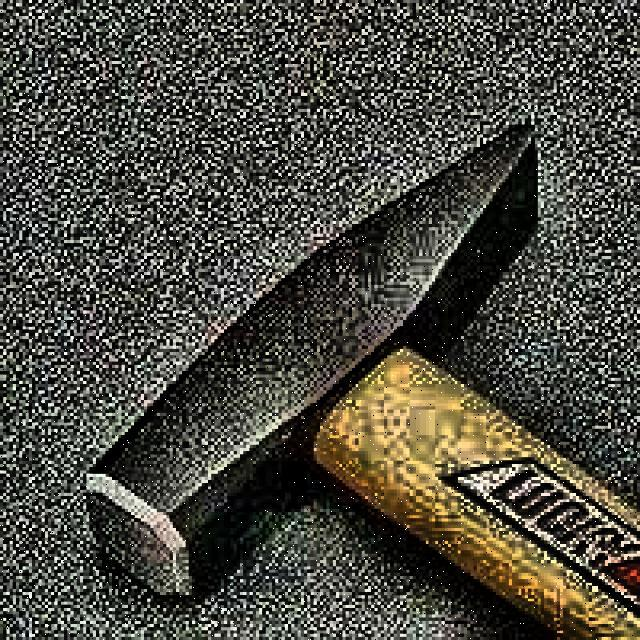hammer: (83, 114, 640, 640)
